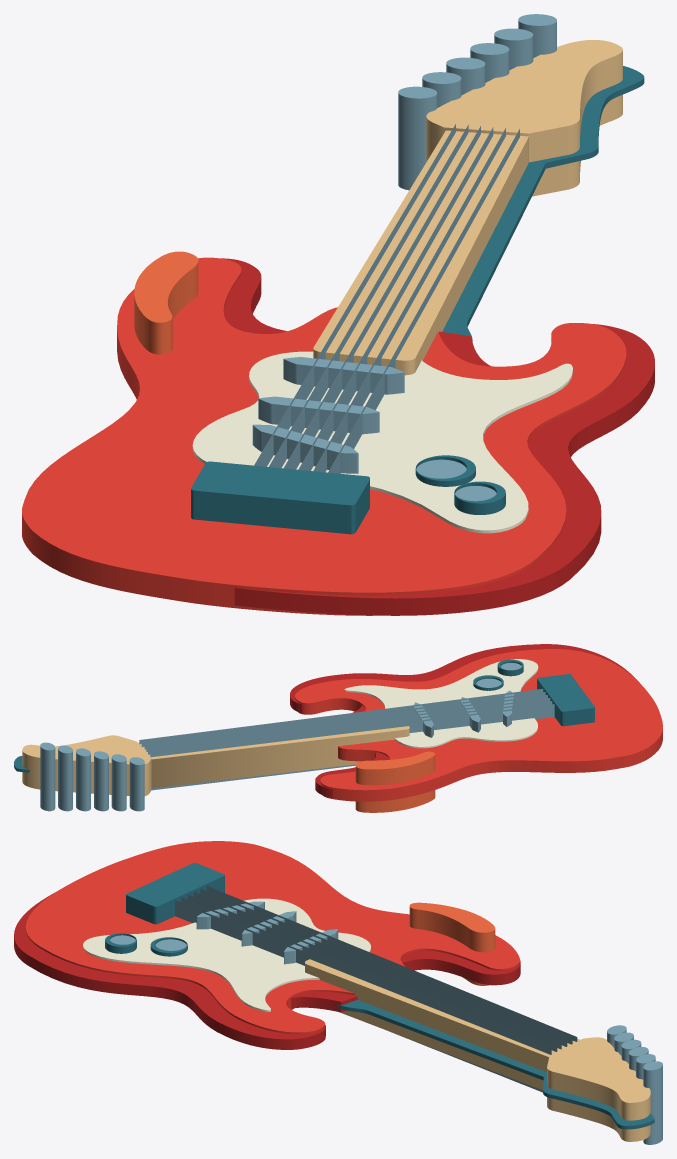
The model's file is emoji_u1f3b8.glb.
The picture shows the model from 3 angles, top to bottom: view 1: azimuth 30°, elevation 25°; view 2: azimuth 150°, elevation 25°; view 3: azimuth 270°, elevation 25°; orthographic projection. The views are drawn at different scales.
Parts seen in each view (by area): view 1: emoji_u1f3b8; view 2: emoji_u1f3b8; view 3: emoji_u1f3b8.
Part boxes in pixels (bbox=[...]): emoji_u1f3b8: bbox=[22, 14, 654, 615]; emoji_u1f3b8: bbox=[14, 644, 662, 812]; emoji_u1f3b8: bbox=[14, 841, 662, 1144].
Bounding box in the file's own units: 0.0338 × 0.0042 × 0.0332.
